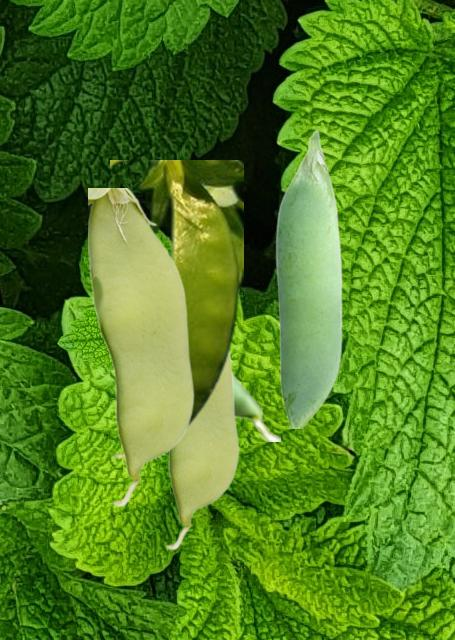pea: (110, 160, 242, 464), (88, 188, 193, 506), (275, 129, 341, 427), (165, 355, 238, 549), (234, 373, 279, 440)
